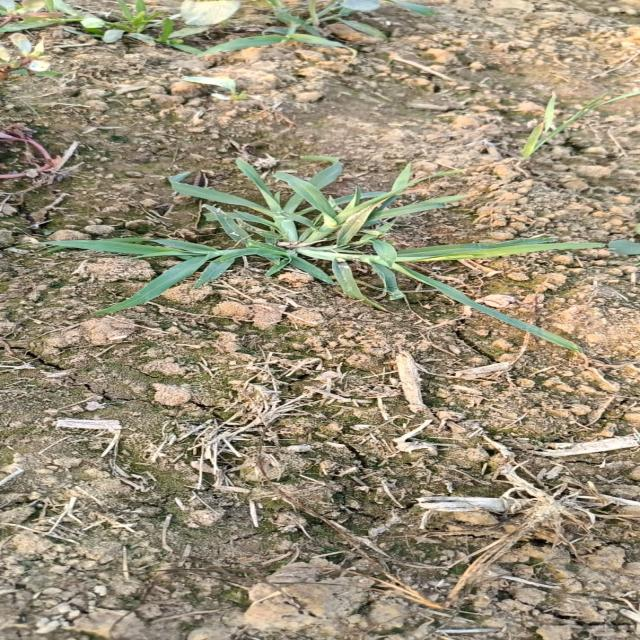plant: (45, 156, 600, 351)
